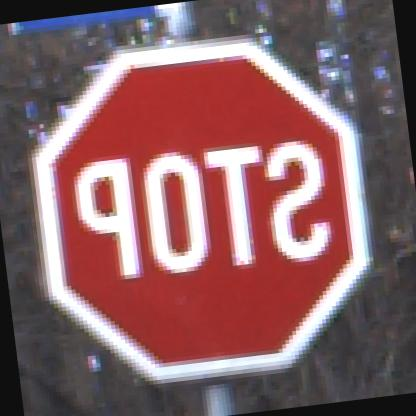stop: (13, 15, 393, 408)
